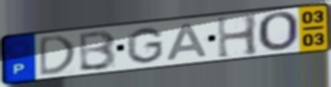A: (164, 21, 210, 62)
B: (77, 29, 119, 73)
D: (38, 33, 78, 78)
G: (124, 26, 166, 65)
H: (215, 13, 261, 60)
O: (256, 10, 302, 53)
